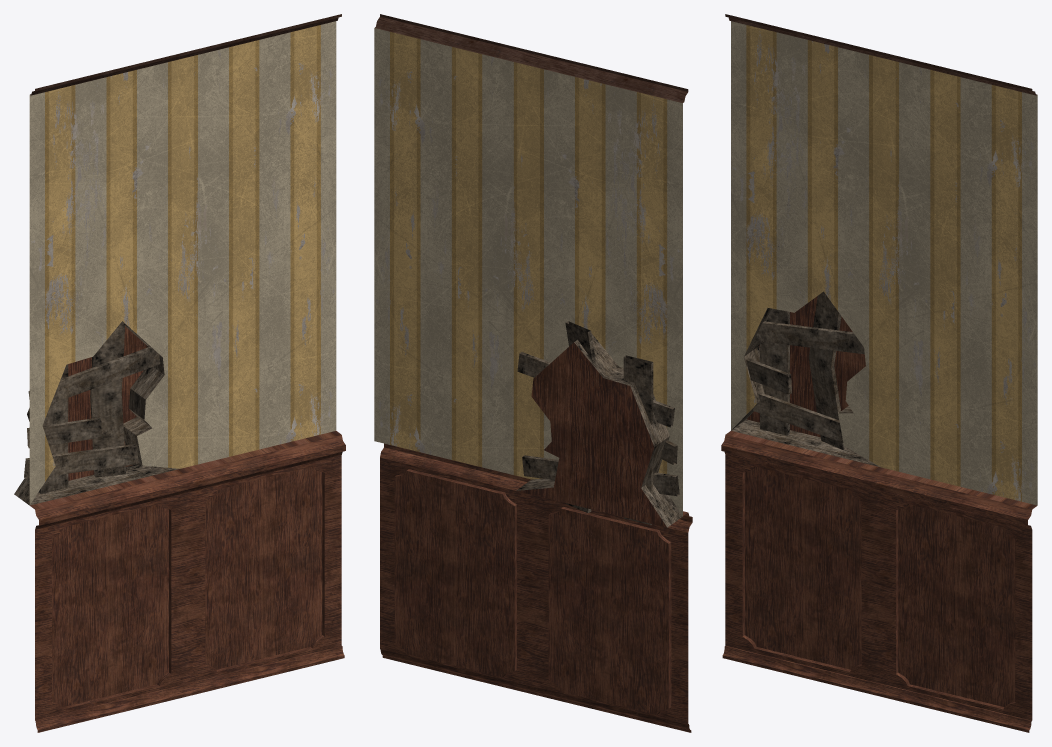
The model's file is SM_Wallpaper_Damaged_01.fbx.
3 views of the same model, side by side, from view 1: azimuth 30°, elevation 25°; view 2: azimuth 150°, elevation 25°; view 3: azimuth 330°, elevation 25° (orthographic).
Parts seen in each view (by area): view 1: SM_Wallpaper_Damaged_01; view 2: SM_Wallpaper_Damaged_01; view 3: SM_Wallpaper_Damaged_01.
Part boxes in pixels (left/top/right/bottom): SM_Wallpaper_Damaged_01: left=14, top=14, right=345, bottom=732; SM_Wallpaper_Damaged_01: left=374, top=14, right=692, bottom=732; SM_Wallpaper_Damaged_01: left=721, top=14, right=1037, bottom=732.
Size of the model in its own units: 200 by 400 by 28.36.
